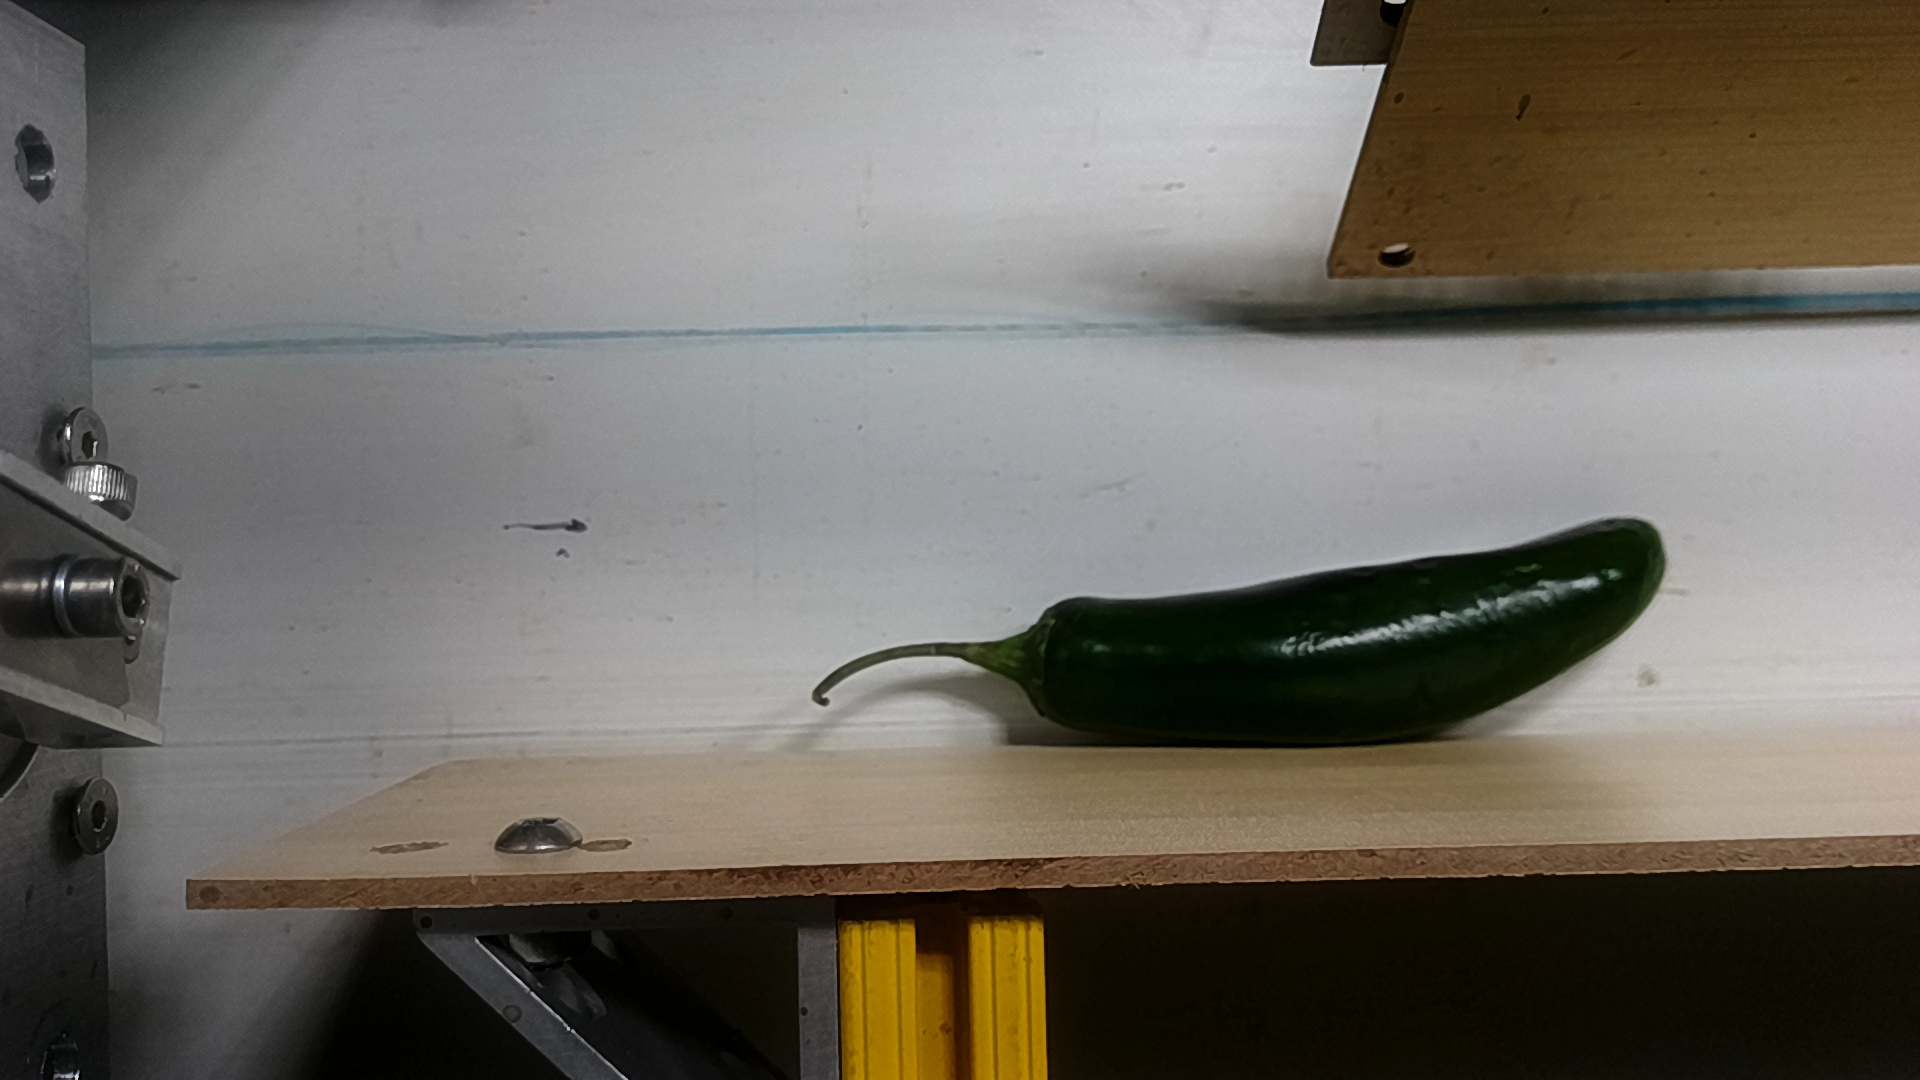Cut Point: (957, 574, 1126, 745)
